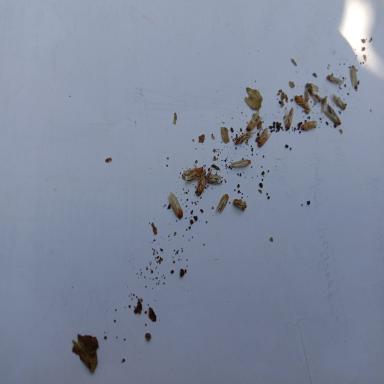pbw: (196, 166, 212, 196), (167, 192, 183, 218), (246, 110, 264, 132), (323, 104, 341, 125), (294, 95, 313, 114), (184, 167, 204, 183), (258, 127, 272, 148), (236, 131, 256, 145), (331, 93, 346, 110), (284, 107, 295, 129), (217, 194, 229, 213), (204, 174, 223, 184), (301, 120, 318, 131), (350, 65, 358, 88), (326, 75, 344, 84), (231, 159, 251, 167)
